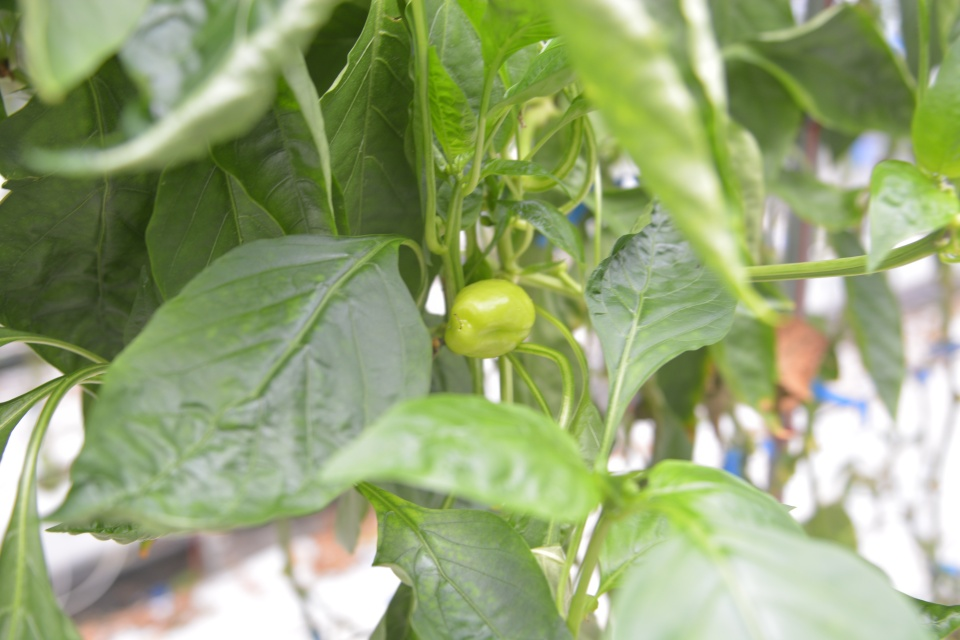immature: (440, 274, 540, 360)
